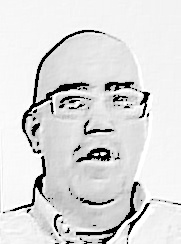nose_M_C: (81, 104, 116, 144)
